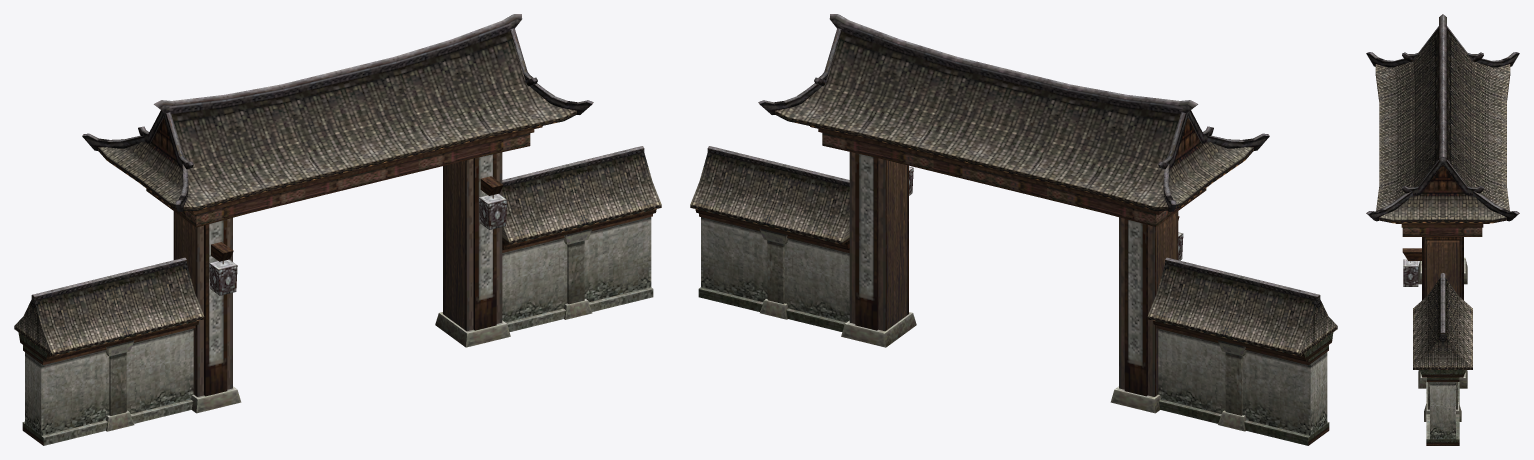
Rendered from wall_door.glb.
3 renders of one model, left to right at view 1: azimuth 30°, elevation 25°; view 2: azimuth 150°, elevation 25°; view 3: azimuth 270°, elevation 25°, orthographic. The views are drawn at different scales.
Parts seen in each view (by area): view 1: b1-038-wall.001; view 2: b1-038-wall.001; view 3: b1-038-wall.001.
Boxes of the visible parts, x1,y1,x2,y2 form: b1-038-wall.001: (14, 14, 661, 445); b1-038-wall.001: (690, 14, 1337, 445); b1-038-wall.001: (1366, 14, 1519, 445).
Bounding box in the file's own units: 2000 × 962 × 549.
1 material, 1 textured.
